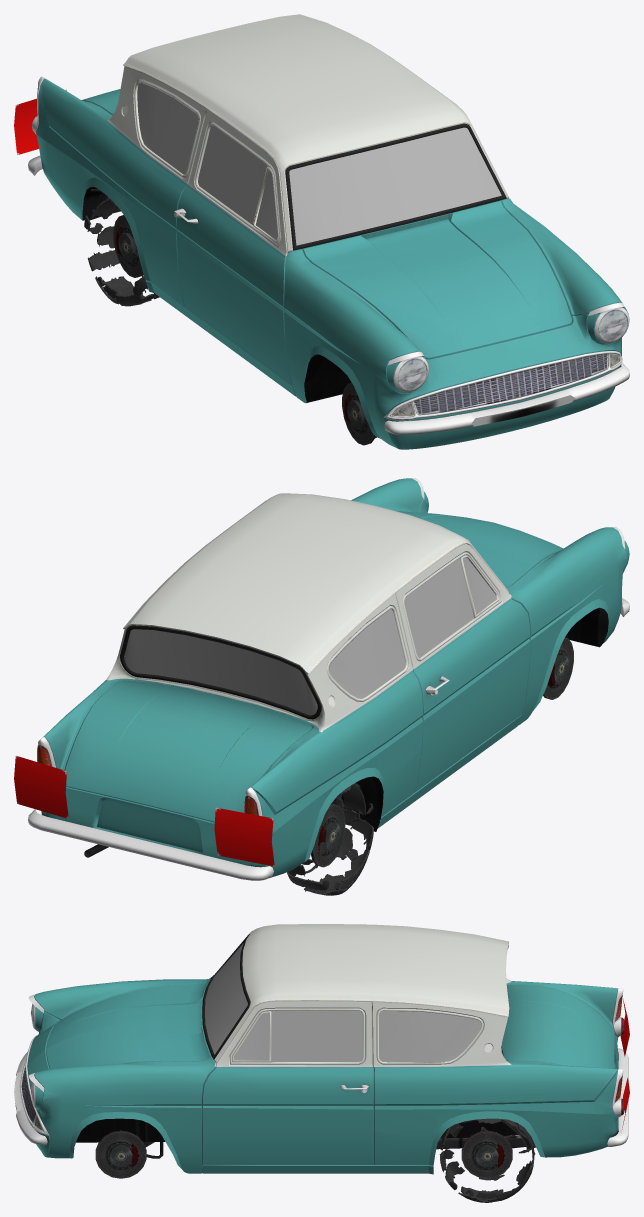
File: 43_Anglia.fbx
3 renders of one model, top to bottom at view 1: azimuth 30°, elevation 25°; view 2: azimuth 150°, elevation 25°; view 3: azimuth 270°, elevation 25°, orthographic. The views are drawn at different scales.
Visible parts, largest first — view 1: Body_Duco, Kit_00_Duco, Body_Glass, Body_Matte, Body_Chrome, Rotor (×2), Body_Glossy, BrakeLights; view 2: Body_Duco, Body_Glass, BrakeLights, Body_Chrome, Body_Matte, Kit_00_Duco, Rotor (×2); view 3: Body_Duco, Body_Glass, Kit_00_Duco, Body_Matte, Rotor (×2), Body_Chrome, Body_Glossy, BrakeLights.
Part boxes in pixels (bbox=[...]): Body_Duco: bbox=[36, 14, 628, 449]; Kit_00_Duco: bbox=[302, 200, 572, 359]; Body_Glass: bbox=[137, 83, 501, 245]; Body_Matte: bbox=[82, 123, 608, 448]; Body_Chrome: bbox=[28, 76, 629, 434]; Rotor (×2): bbox=[113, 215, 375, 445]; Body_Glossy: bbox=[36, 88, 628, 416]; BrakeLights: bbox=[14, 89, 66, 155]; Body_Duco: bbox=[41, 478, 629, 878]; Body_Glass: bbox=[124, 557, 496, 715]; BrakeLights: bbox=[14, 755, 274, 866]; Body_Chrome: bbox=[28, 478, 629, 880]; Body_Matte: bbox=[84, 607, 608, 857]; Kit_00_Duco: bbox=[396, 511, 563, 587]; Rotor (×2): bbox=[311, 637, 573, 867]; Body_Duco: bbox=[27, 924, 618, 1174]; Body_Glass: bbox=[205, 943, 481, 1061]; Kit_00_Duco: bbox=[46, 979, 211, 1069]; Body_Matte: bbox=[21, 933, 526, 1158]; Rotor (×2): bbox=[95, 1130, 512, 1178]; Body_Chrome: bbox=[14, 988, 628, 1146]; Body_Glossy: bbox=[30, 994, 624, 1130]; BrakeLights: bbox=[620, 999, 629, 1129].
Size of what is drawn, in the model's own units: 1.52 by 1.42 by 3.87.
